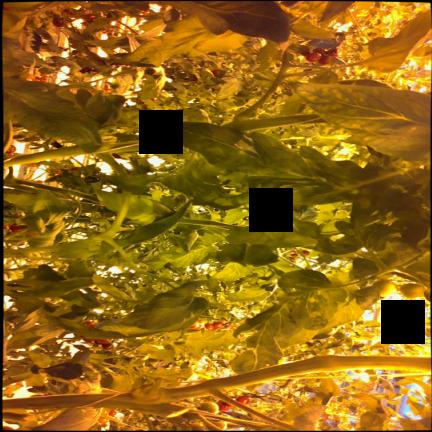MainStem: (1, 355, 432, 409), (2, 138, 180, 168), (221, 114, 326, 131)
tomato: (373, 280, 397, 296), (399, 283, 424, 298), (198, 401, 218, 414), (305, 52, 321, 62), (235, 396, 251, 404), (212, 421, 226, 430), (218, 401, 230, 411), (318, 57, 329, 64), (213, 322, 223, 328), (98, 418, 109, 423), (301, 250, 310, 256), (204, 324, 214, 329), (96, 340, 108, 344), (84, 339, 96, 342)
